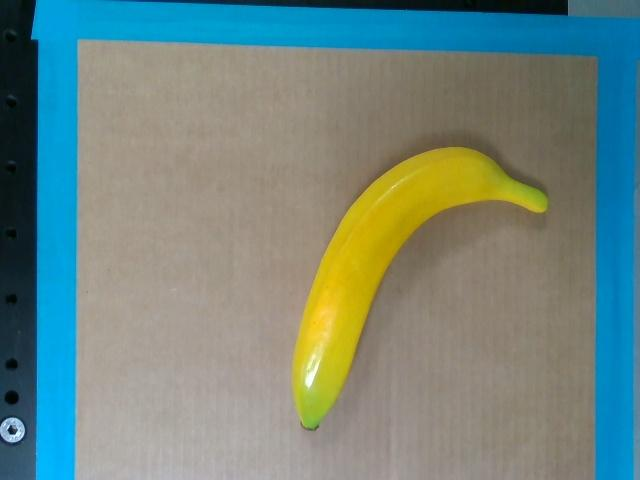banana: (293, 146, 549, 430)
